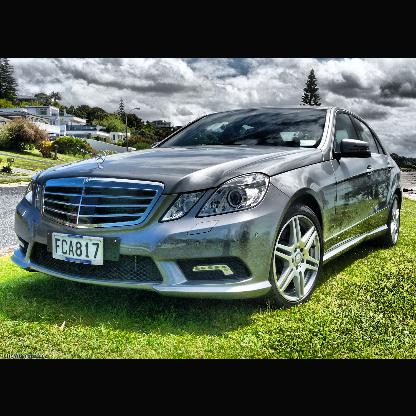Mercedes-Benz E-Class Sedan 2012: (12, 105, 403, 307)
